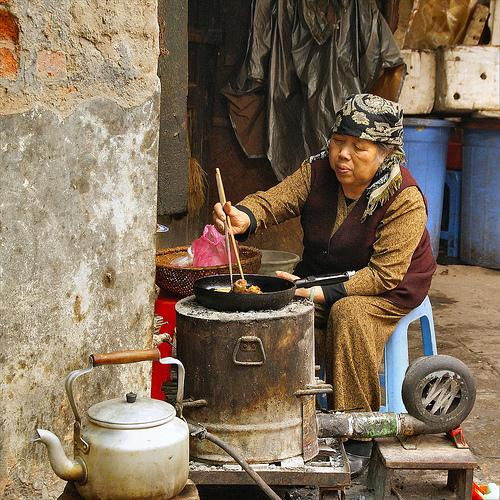person: (206, 98, 434, 411)
